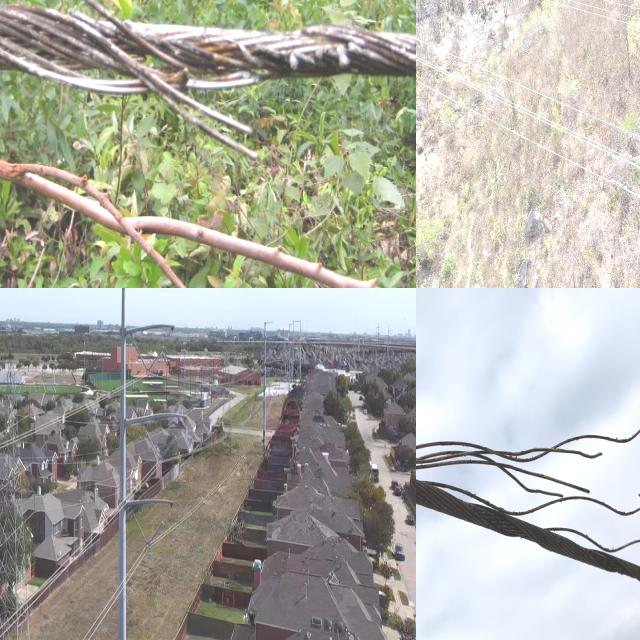杆塔: (0, 349, 37, 640)
正常绝缘子: (144, 427, 162, 463), (146, 343, 165, 374), (158, 434, 178, 463), (133, 512, 150, 546), (133, 340, 150, 373), (146, 519, 165, 546)
电缆破损: (0, 0, 416, 151), (416, 390, 640, 602)
